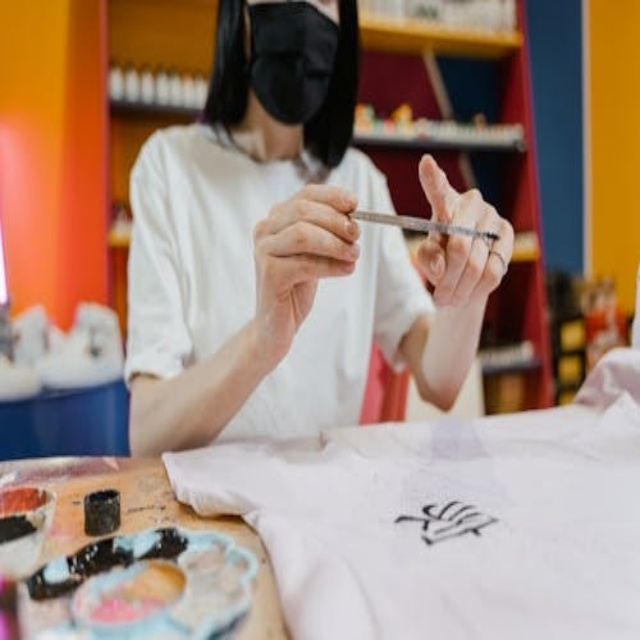Mascara: (245, 1, 341, 127)
Sin_guantes: (252, 182, 363, 347), (412, 151, 515, 313)
